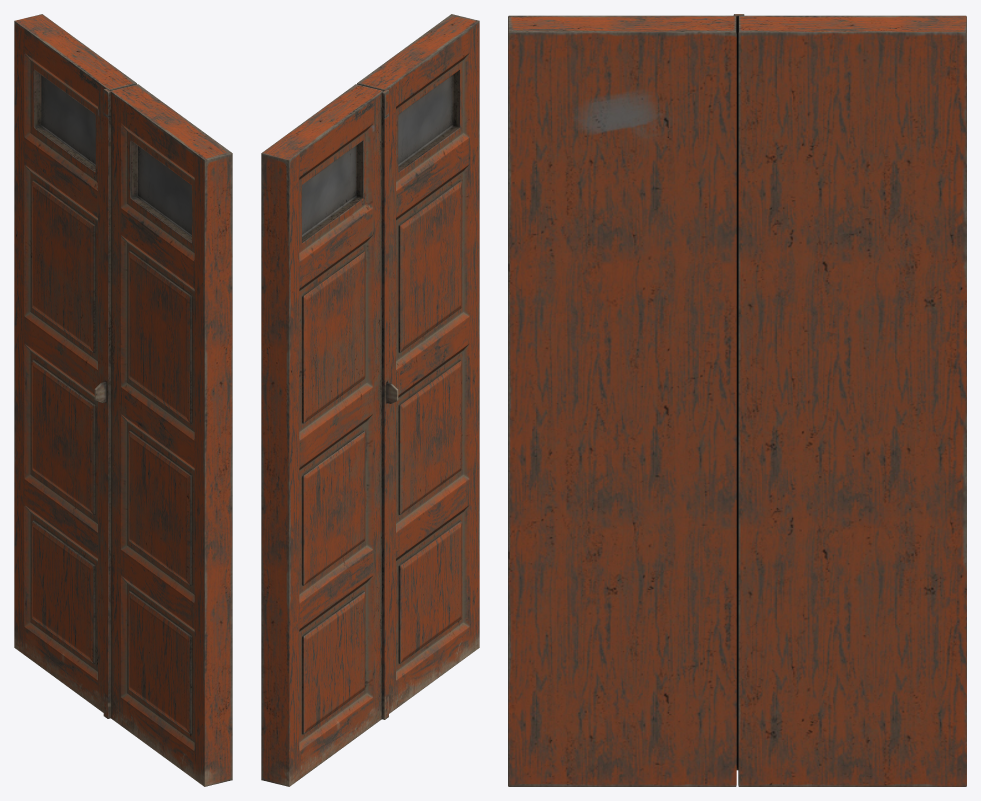
Rendered from old_wooden_door_low_poly.glb.
The picture shows the model from 3 angles, left to right: view 1: azimuth 30°, elevation 25°; view 2: azimuth 150°, elevation 25°; view 3: azimuth 270°, elevation 25°; orthographic projection. The views are drawn at different scales.
Visible parts, largest first — view 1: Object_2; view 2: Object_2; view 3: Object_2.
Boxes of the visible parts, bbox=[...] form: Object_2: bbox=[14, 14, 232, 786]; Object_2: bbox=[261, 14, 479, 786]; Object_2: bbox=[508, 14, 966, 786].
Size of the model in its own units: 0.3226 by 4.6 by 2.54.
Materials: 1 (1 with a texture image).
